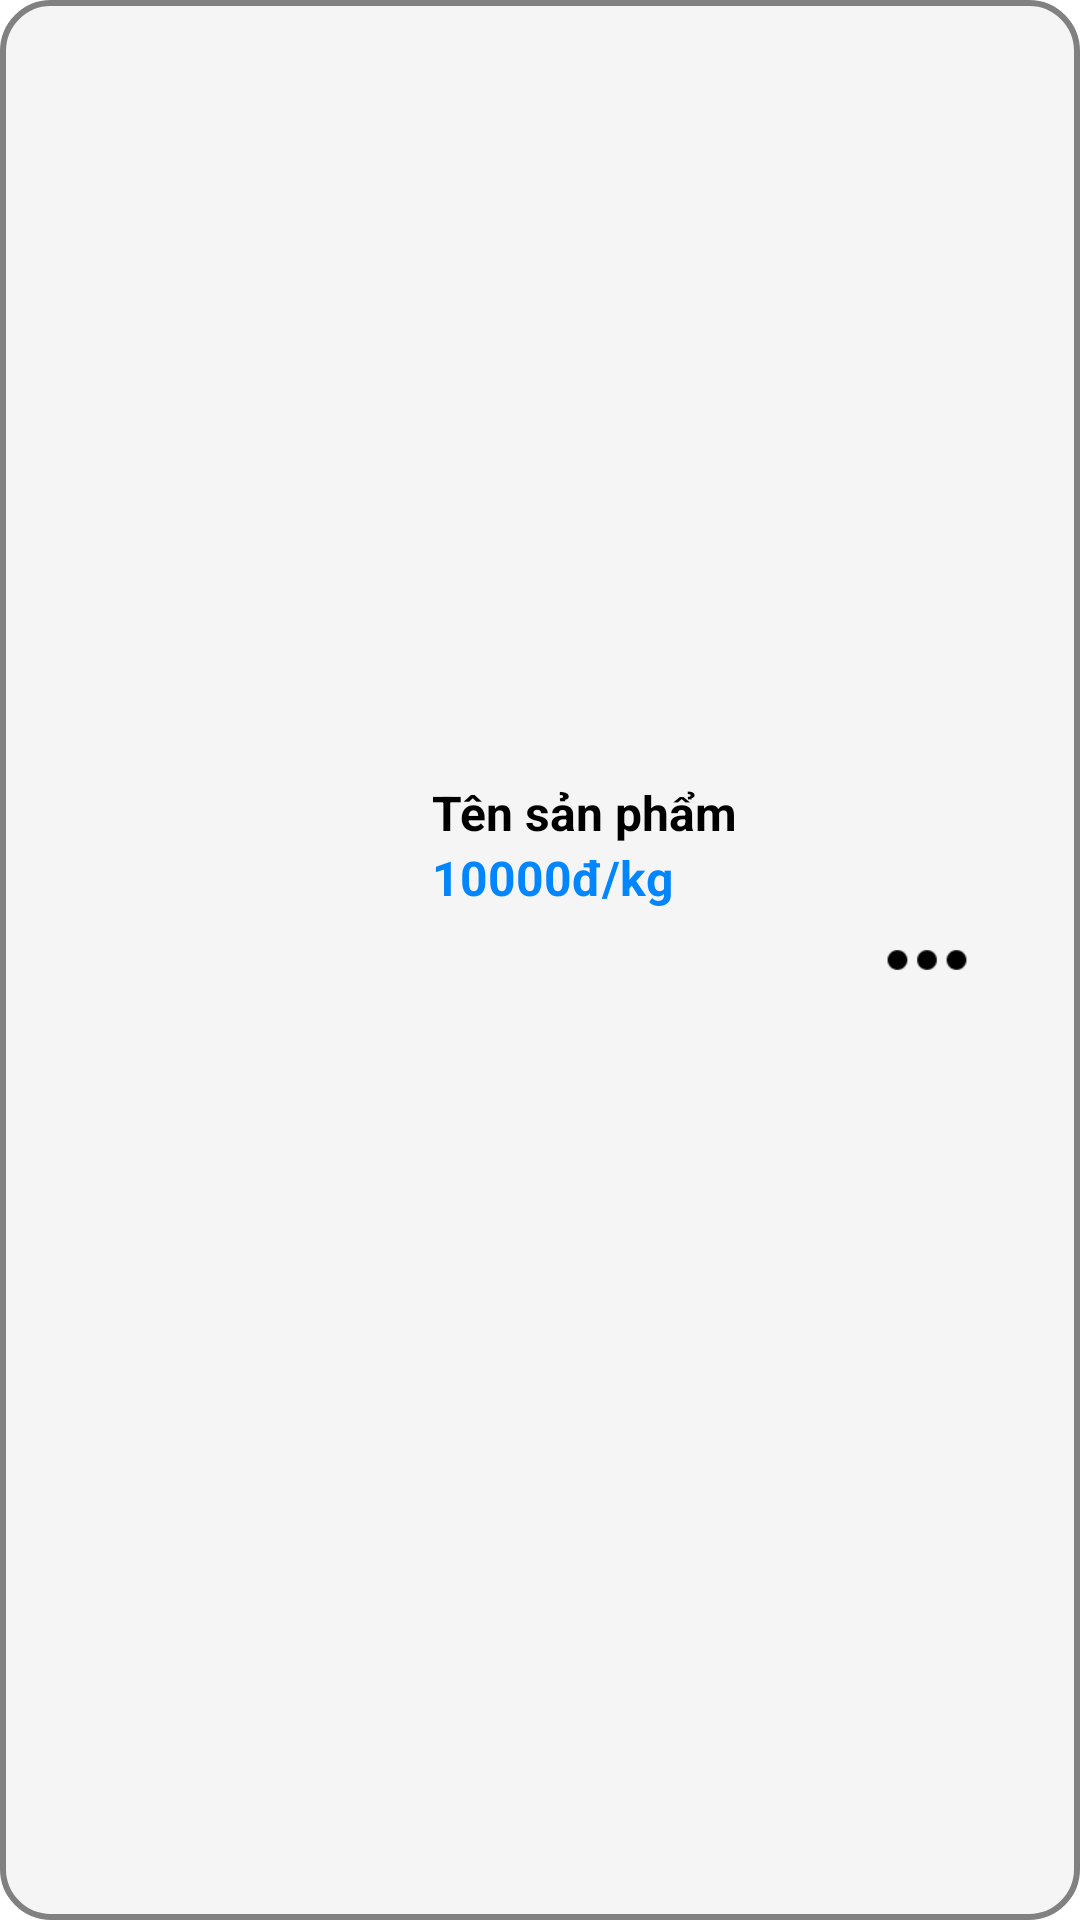

Point at icon controls on the screen. Image size 1080×1920, points as (x,y).
dot: (927,960)
